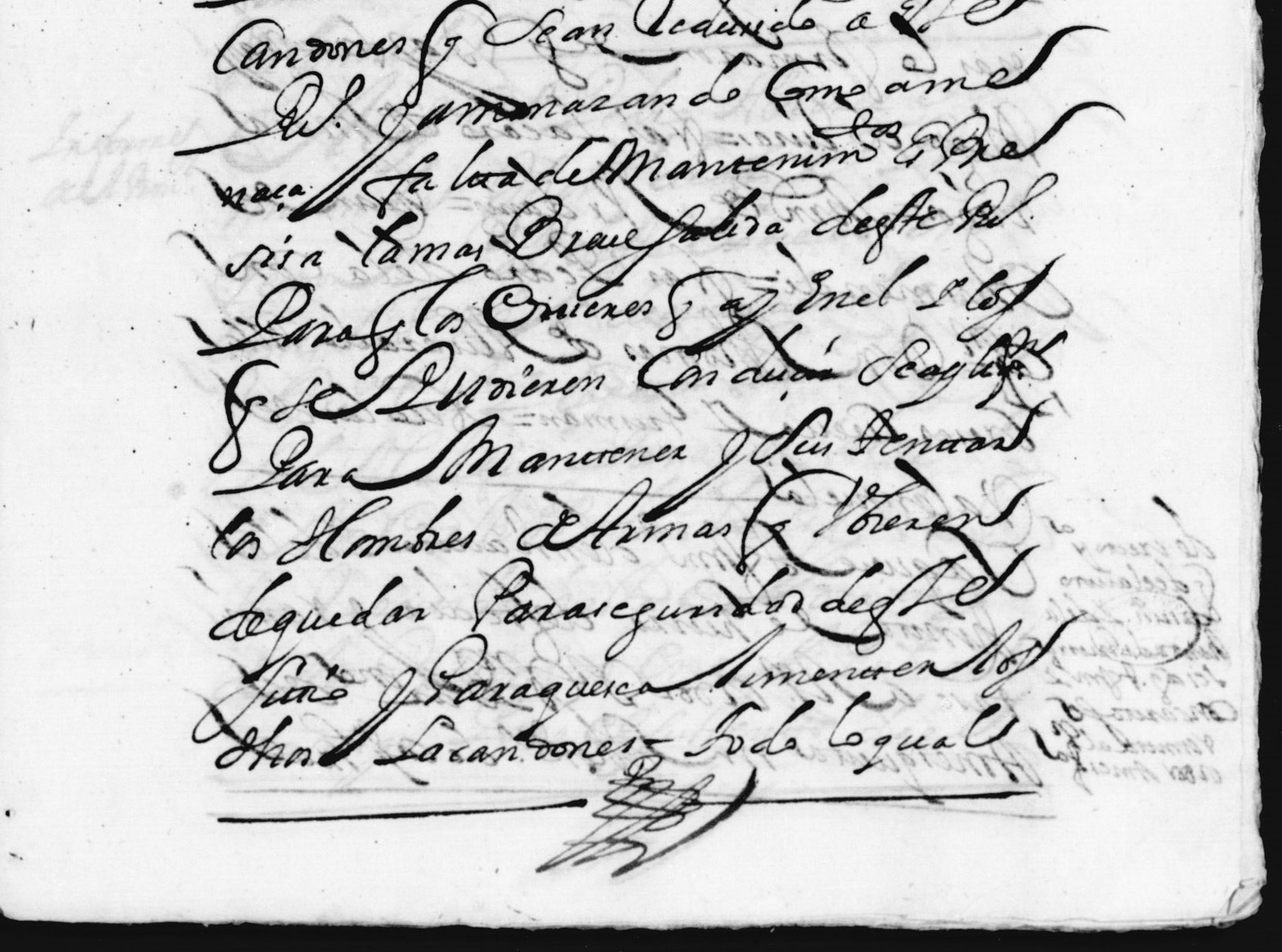lacandon: (373, 714, 636, 765)
